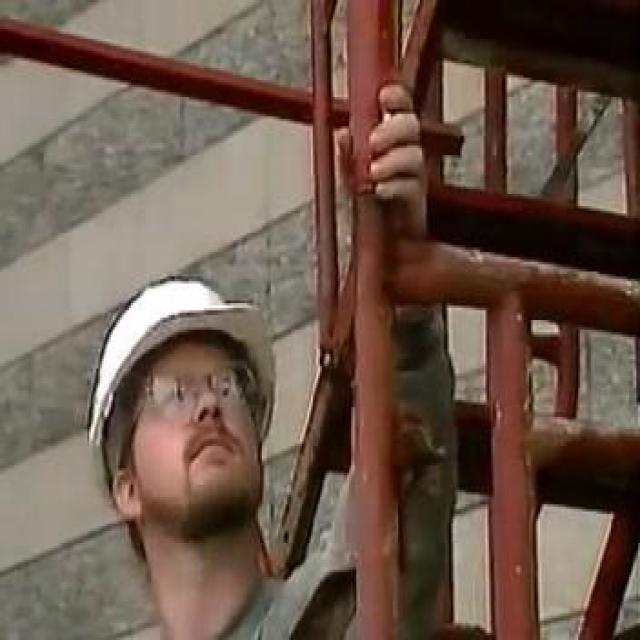Safety-Helmet: (67, 259, 289, 436)
